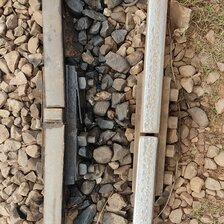railway-gap: (38, 87, 73, 129), (133, 119, 165, 151)
